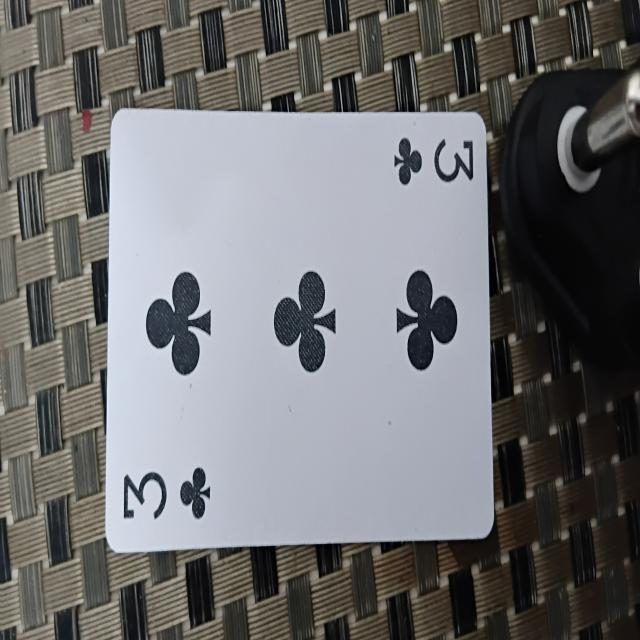3C: (107, 110, 491, 542)
